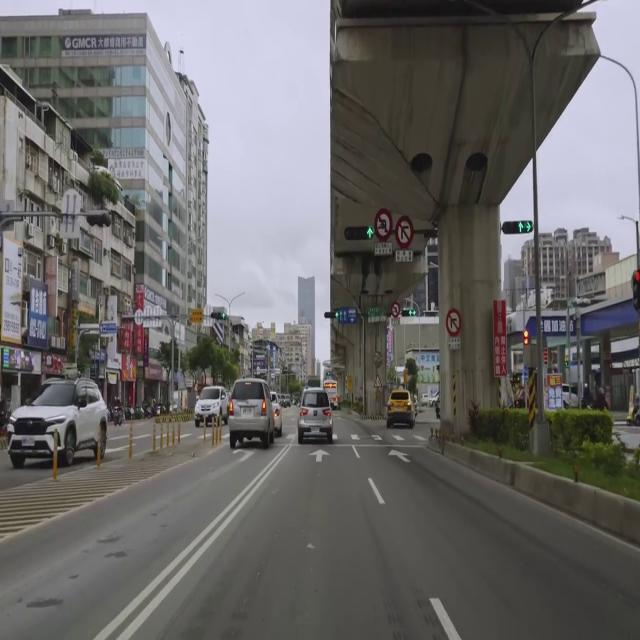green light: (344, 225, 375, 242), (502, 221, 534, 233), (210, 312, 227, 319), (324, 311, 338, 319), (401, 309, 417, 316)
